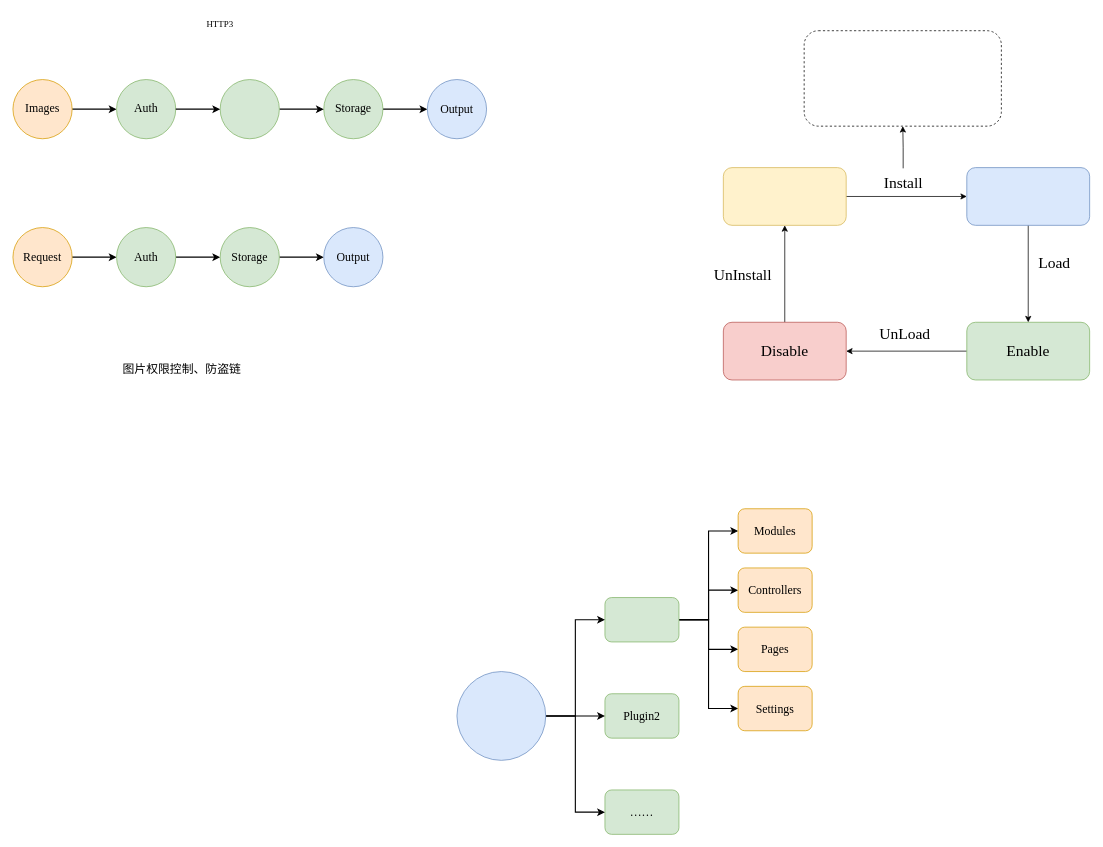
Image size: 1103x847. Some labels were removed from this diagram. The centre of each missing label's shape, as x and y in pixels:
"Installed" goes at (x=1028, y=196).
"Parser" goes at (x=249, y=109).
"Plugin1" goes at (x=641, y=619).
"PluginsContext" goes at (x=501, y=715).
"UnInstalled" goes at (x=784, y=196).
"安装插件至磁盘 更新 Plugins 数据库表" goes at (x=902, y=78).
